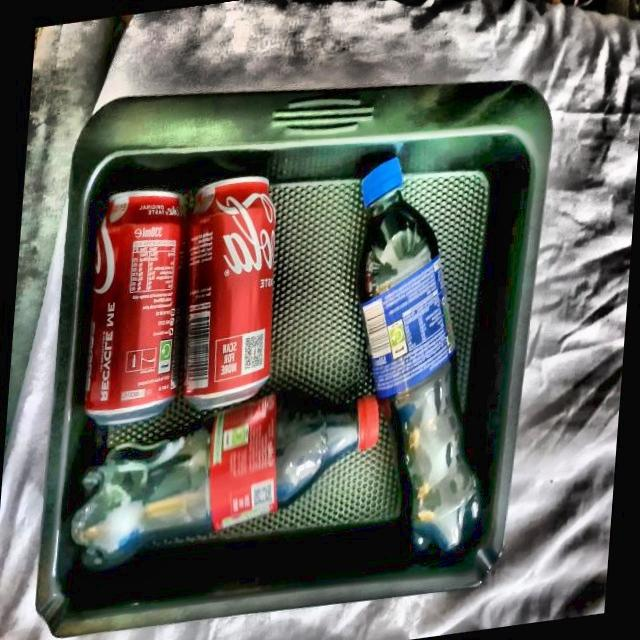coke-bottle: (76, 396, 382, 576)
coke-can: (93, 170, 180, 427), (185, 173, 276, 416)
pepsi-bottle: (360, 152, 480, 549)
